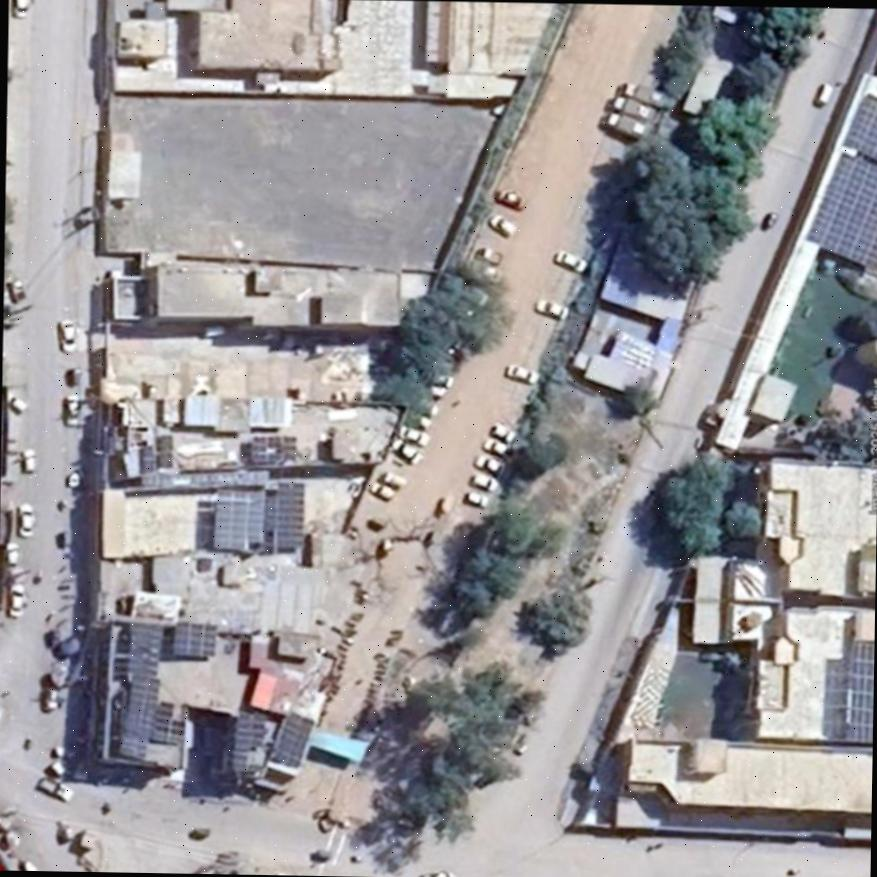Solarpanel: (805, 89, 877, 256), (213, 486, 302, 552), (120, 673, 157, 754), (845, 638, 872, 742), (270, 710, 312, 770), (126, 621, 164, 676), (172, 618, 216, 654), (234, 707, 267, 753), (250, 434, 296, 461)
